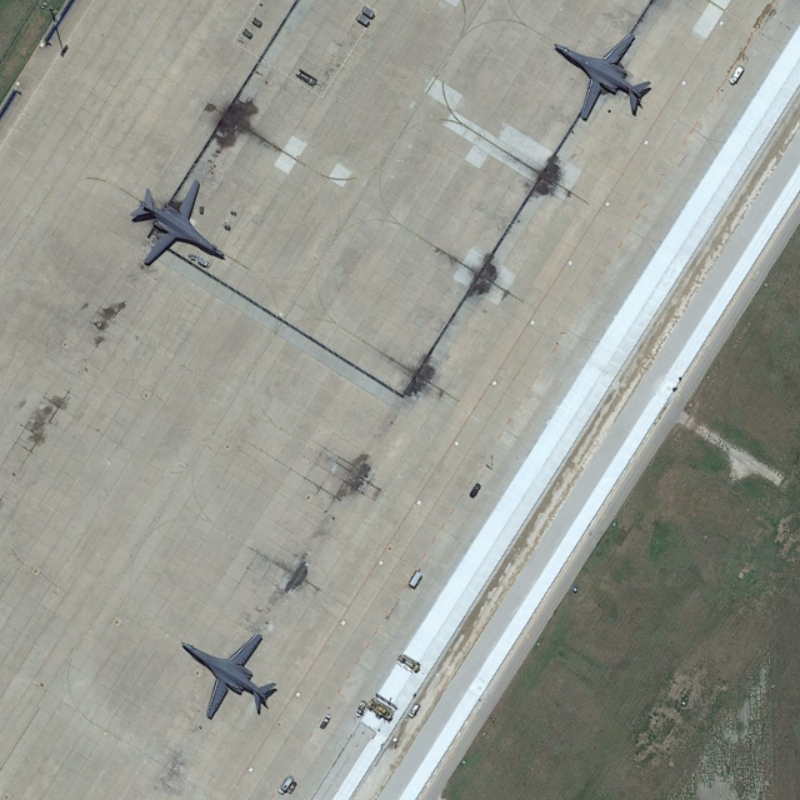A10: (171, 621, 293, 728), (543, 24, 659, 126), (122, 179, 235, 272)
